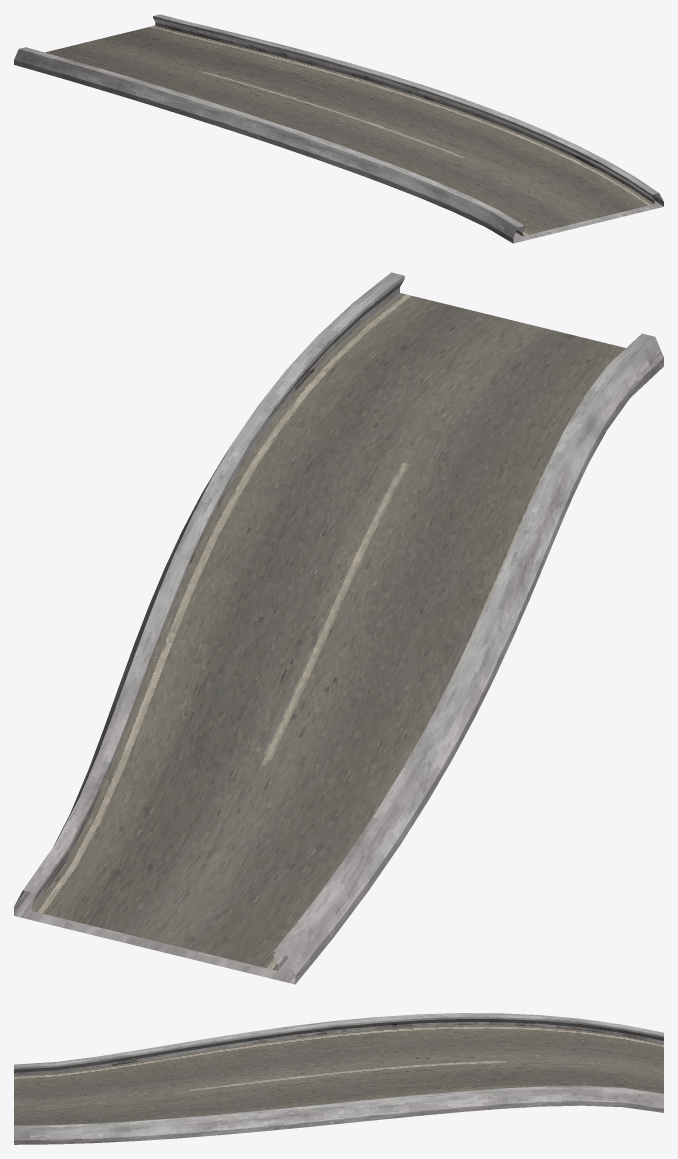
Rendered from chicane-left1x4.glb.
The picture shows the model from 3 angles, top to bottom: view 1: azimuth 30°, elevation 25°; view 2: azimuth 150°, elevation 25°; view 3: azimuth 270°, elevation 25°; orthographic projection. The views are drawn at different scales.
Parts seen in each view (by area): view 1: road-Chicane-Flat-BiSlopeDown-Down1-Left1-Size4; view 2: road-Chicane-Flat-BiSlopeDown-Down1-Left1-Size4; view 3: road-Chicane-Flat-BiSlopeDown-Down1-Left1-Size4.
Part boxes in pixels (bbox=[...]): road-Chicane-Flat-BiSlopeDown-Down1-Left1-Size4: bbox=[14, 14, 663, 243]; road-Chicane-Flat-BiSlopeDown-Down1-Left1-Size4: bbox=[14, 272, 663, 984]; road-Chicane-Flat-BiSlopeDown-Down1-Left1-Size4: bbox=[14, 1013, 663, 1144].
Size of the model in its own units: 2 by 0.3715 by 4.
2 materials, 2 textured.
